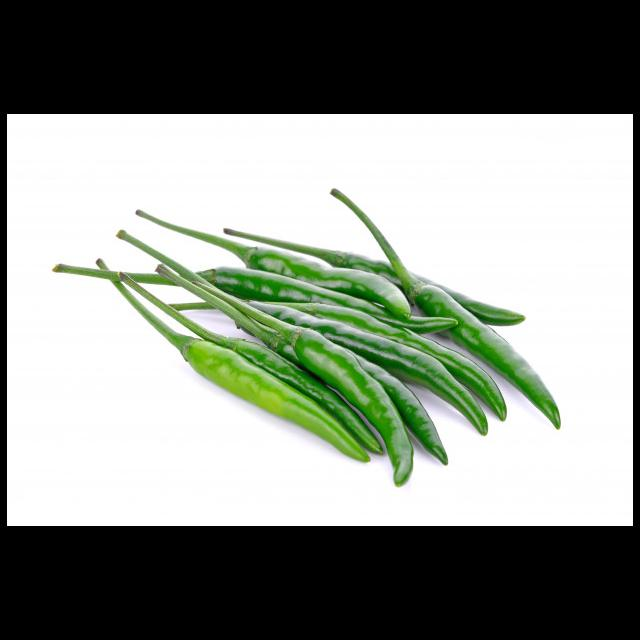chili_pepper: (331, 188, 562, 430), (249, 301, 488, 434), (279, 303, 508, 421), (186, 341, 369, 462), (295, 329, 414, 486), (245, 247, 412, 318)
